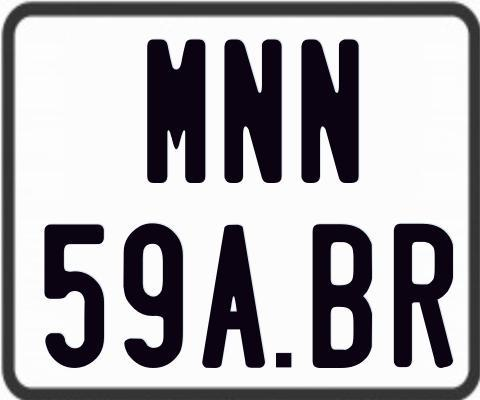5: (42, 223, 105, 372)
9: (123, 221, 187, 369)
A: (202, 223, 270, 368)
B: (311, 222, 371, 368)
M: (144, 37, 208, 187)
N: (301, 37, 361, 183), (222, 38, 282, 183)
R: (392, 223, 456, 368)
